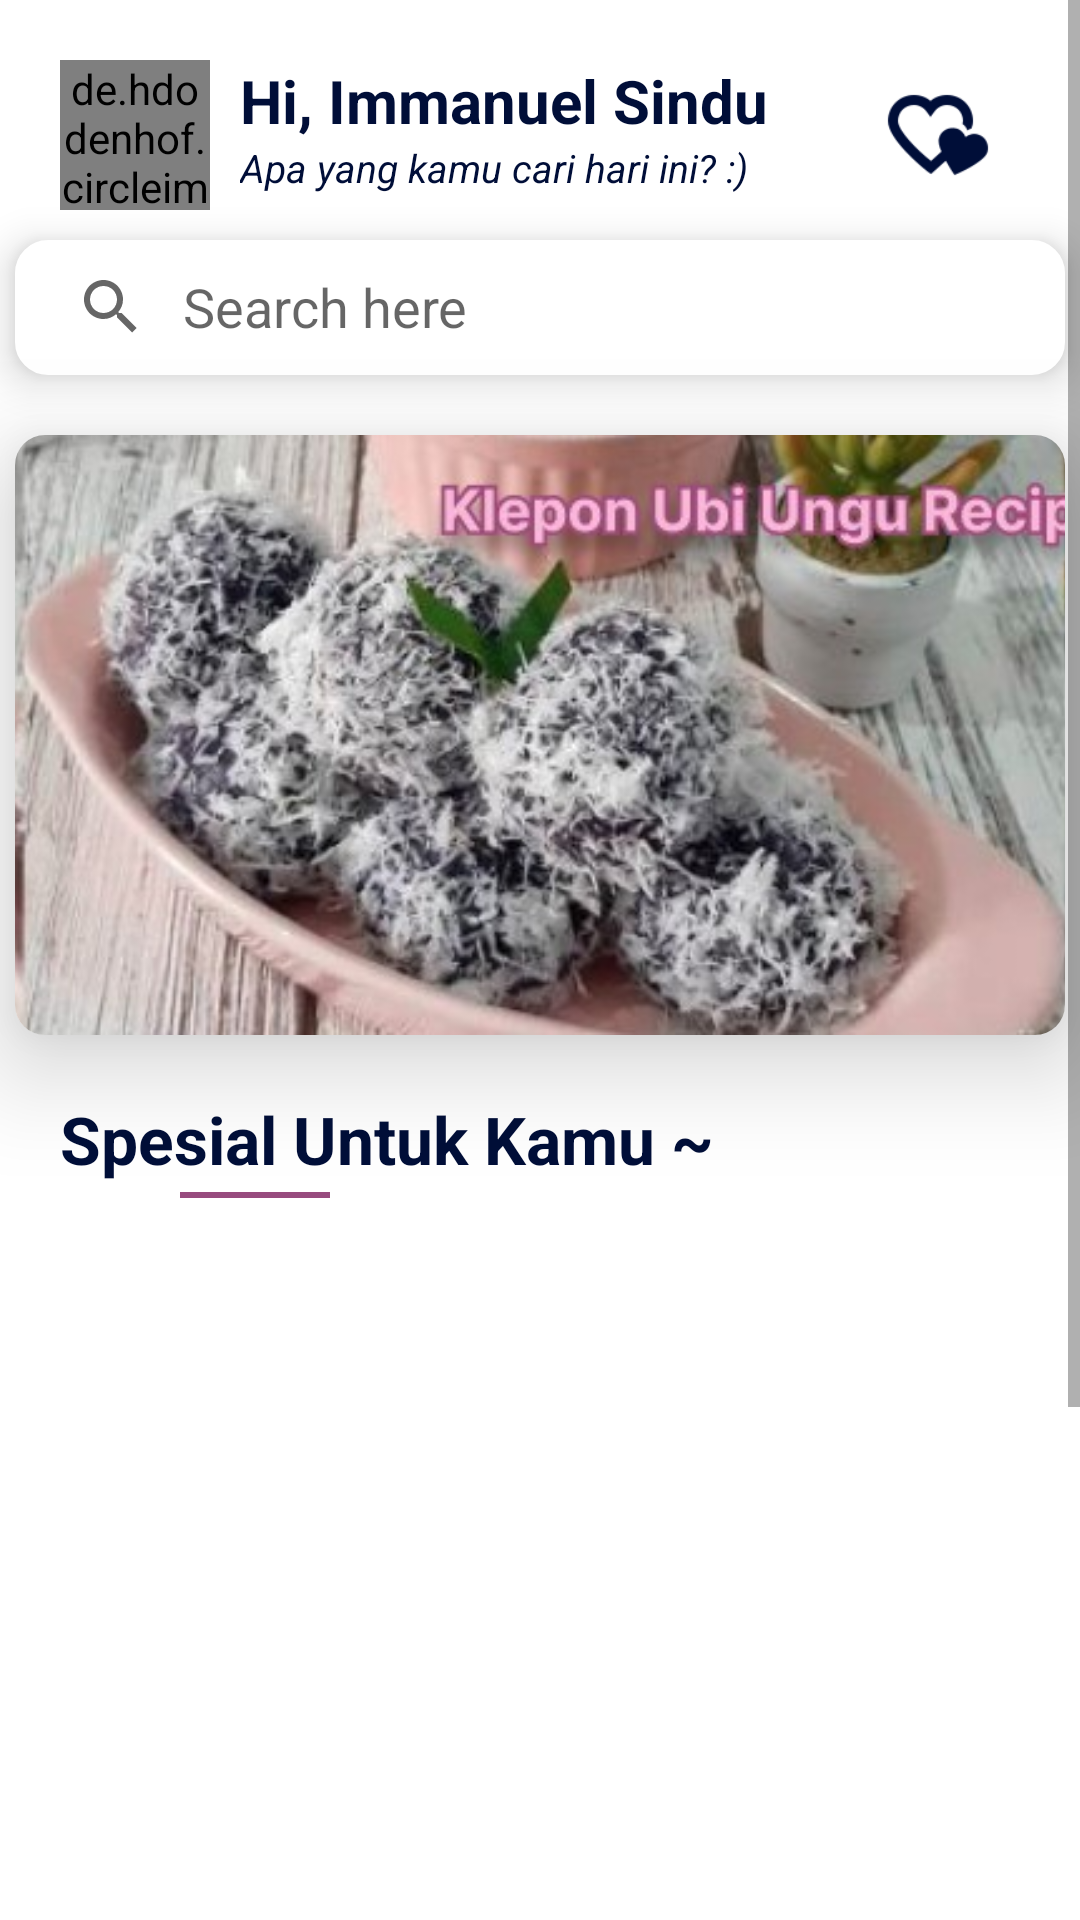

Named icons in this screenshot (1080x1920) and their centers, (x,y):
favorite: (938,134)
